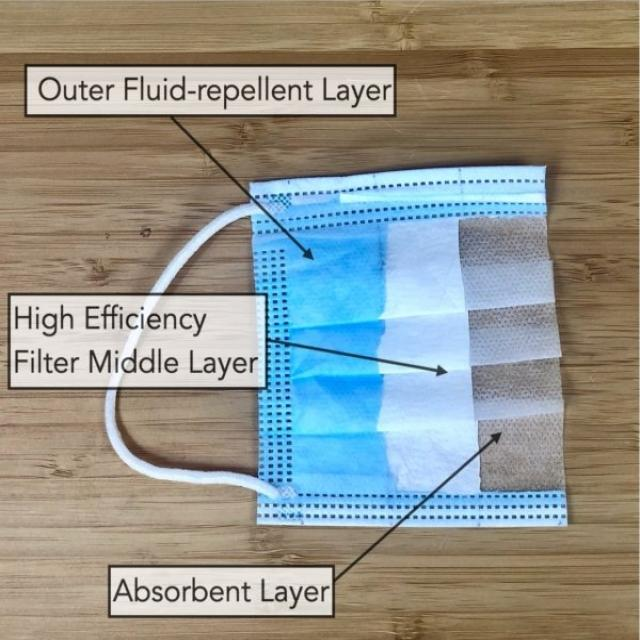non-organic waste: (101, 157, 571, 541)
